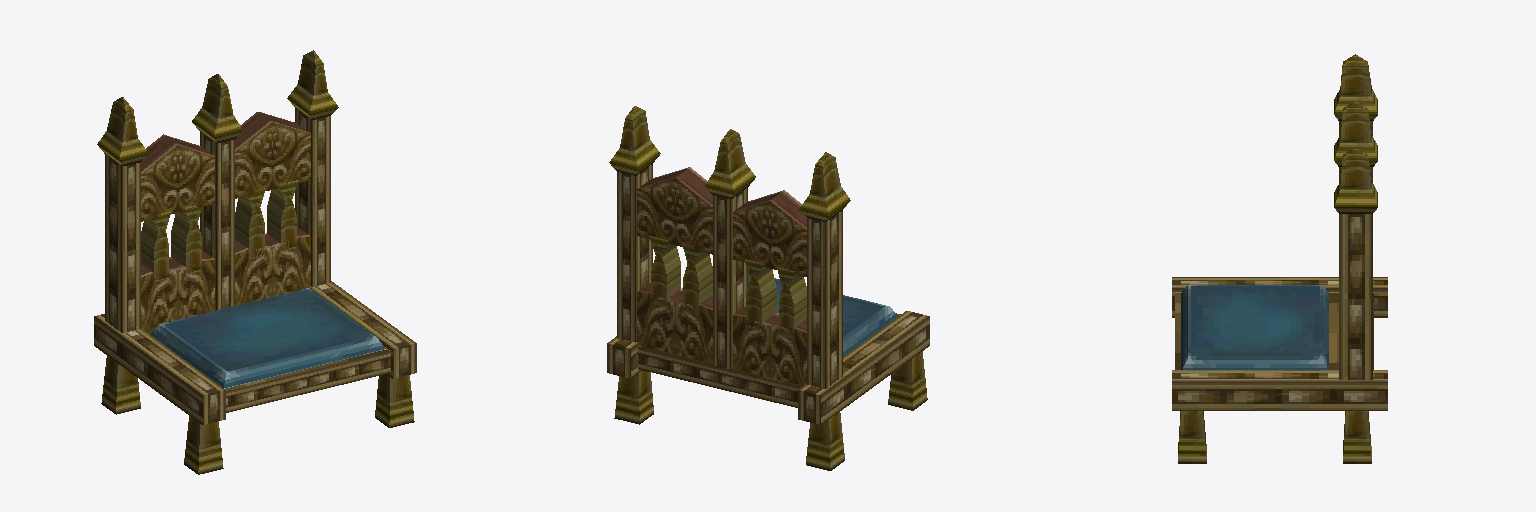
3 renders of one model, left to right at view 1: azimuth 30°, elevation 25°; view 2: azimuth 150°, elevation 25°; view 3: azimuth 270°, elevation 25°, orthographic.
Visible parts, largest first — view 1: part0_texture0, part3_texture3, part1_texture1, part4_texture4, part2_texture2.001; view 2: part0_texture0, part3_texture3, part1_texture1, part2_texture2.001, part4_texture4; view 3: part0_texture0, part4_texture4, part3_texture3.
Boxes of the visible parts, <box> form: part0_texture0: <box>94,108,416,424</box>; part3_texture3: <box>97,50,414,474</box>; part1_texture1: <box>141,122,310,329</box>; part4_texture4: <box>150,288,385,388</box>; part2_texture2.001: <box>141,112,310,277</box>; part0_texture0: <box>607,164,929,424</box>; part3_texture3: <box>609,106,927,470</box>; part1_texture1: <box>637,178,806,385</box>; part2_texture2.001: <box>638,167,806,332</box>; part4_texture4: <box>748,273,898,356</box>; part0_texture0: <box>1172,121,1387,410</box>; part4_texture4: <box>1181,285,1328,369</box>; part3_texture3: <box>1178,54,1377,463</box>.
Size of the model in its own units: 0.7812 by 1.05 by 0.668.
Materials: 5 (5 with a texture image).